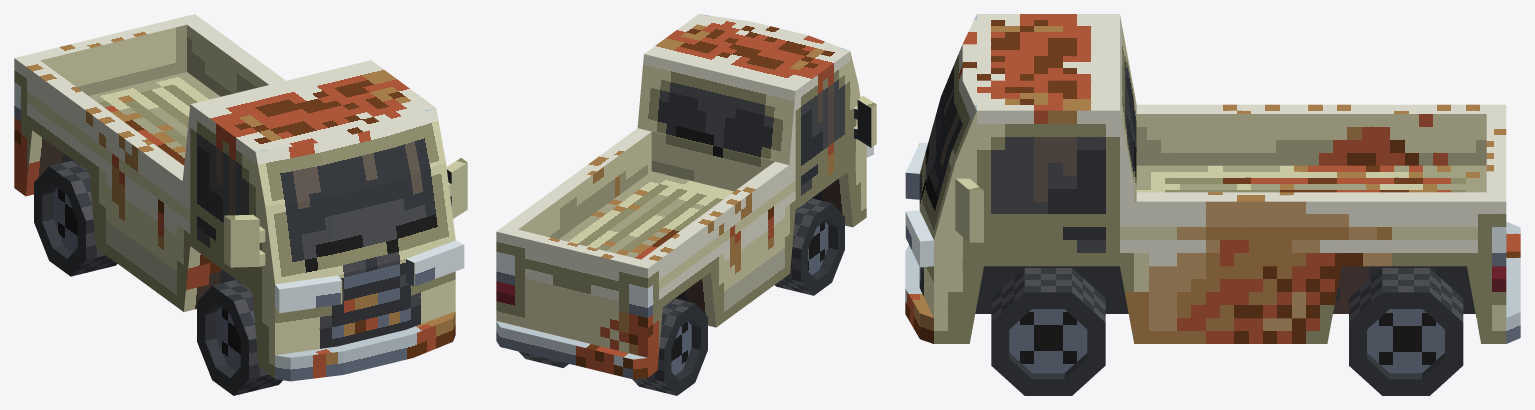
The model's file is RustyTruck.gltf.
3 views of the same model, side by side, from view 1: azimuth 30°, elevation 25°; view 2: azimuth 150°, elevation 25°; view 3: azimuth 270°, elevation 25° (orthographic). The views are drawn at different scales.
Visible parts, largest first — view 1: Body, Wheel (×2), side_mirror_left, side_mirror_right; view 2: Body, Wheel (×2), side_mirror_left; view 3: Body, Wheel (×2), side_mirror_right.
Boxes of the visible parts, x1=… form: Body: x1=14, y1=14, x2=464, y2=381; Wheel (×2): x1=34, y1=160, x2=282, y2=395; side_mirror_left: x1=224, y1=214, x2=265, y2=267; side_mirror_right: x1=446, y1=158, x2=467, y2=218; Body: x1=496, y1=14, x2=873, y2=379; Wheel (×2): x1=632, y1=198, x2=844, y2=395; side_mirror_left: x1=853, y1=96, x2=876, y2=147; Body: x1=905, y1=14, x2=1520, y2=343; Wheel (×2): x1=991, y1=268, x2=1463, y2=395; side_mirror_right: x1=955, y1=178, x2=983, y2=242.
Bounding box in the file's own units: 1.31 × 1.38 × 2.69.
1 material, 1 textured.
